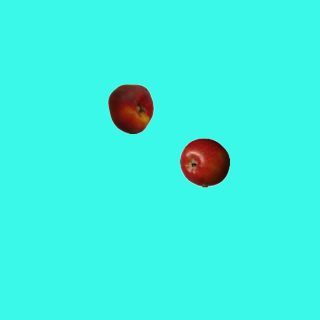Apple Braeburn: (179, 137, 229, 187)
Nectarine Flat: (105, 83, 155, 133)
